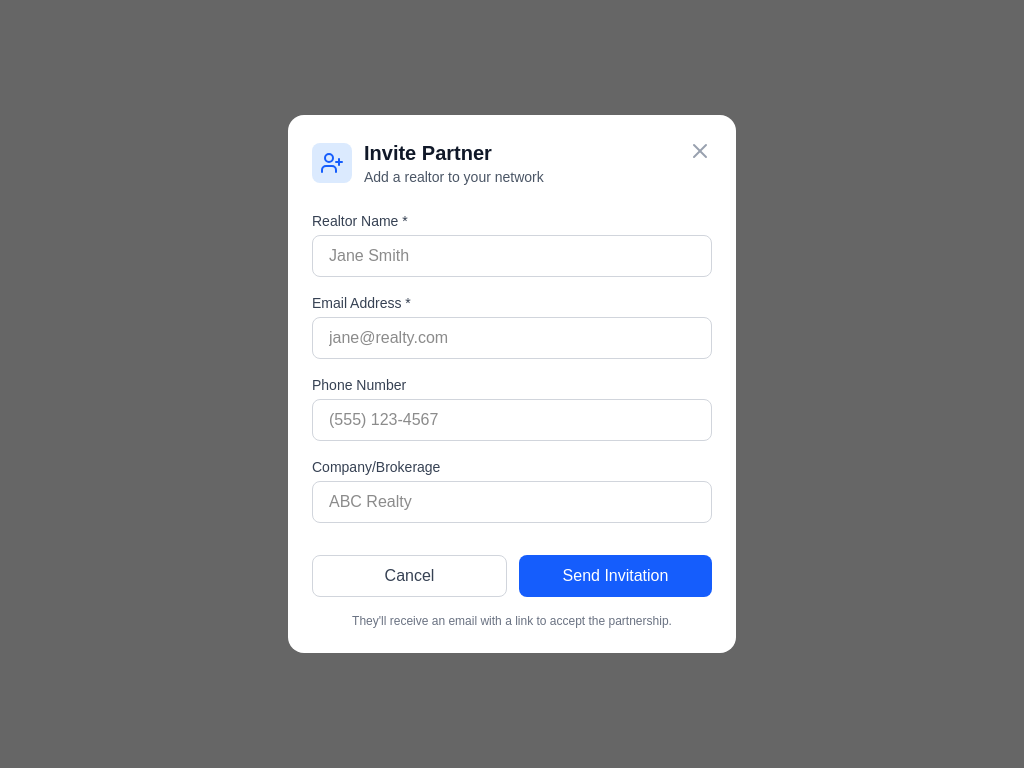
it: InvitePartnerModal › Accessibility › error message has role="alert" for accessibility
Type "John Realtor" into the field with placeholder "Jane Smith" at (512, 256), box [312, 235, 712, 277]
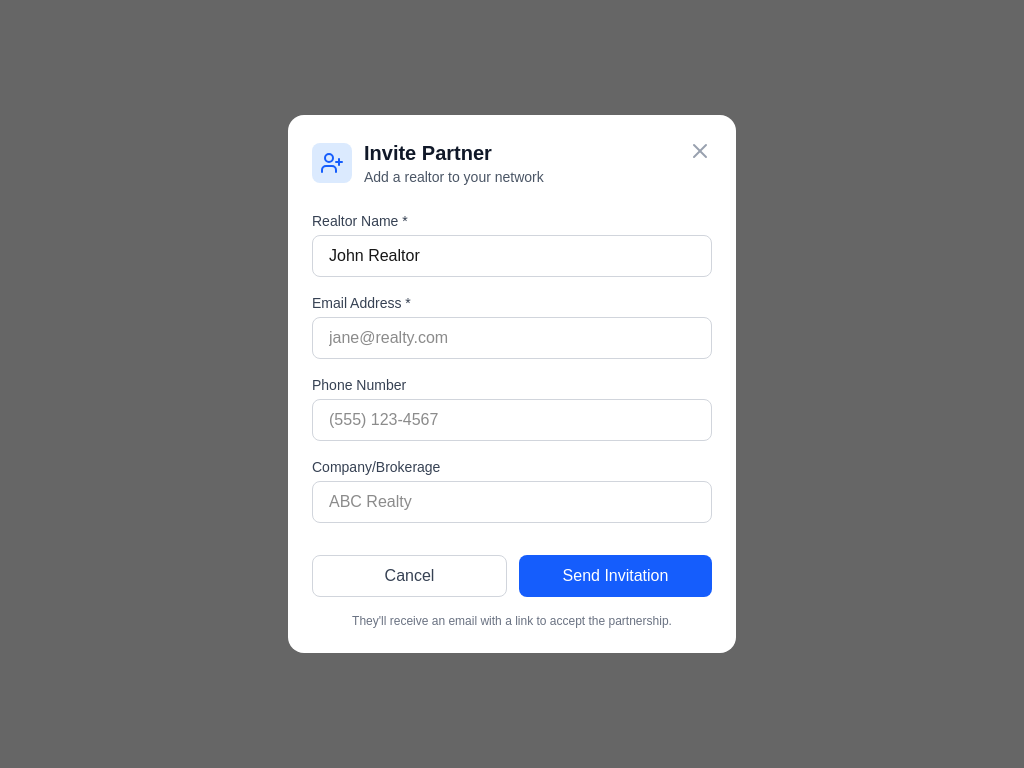
Type "john@realty.com" into the field with placeholder "jane@realty.com" at (512, 338), box [312, 317, 712, 359]
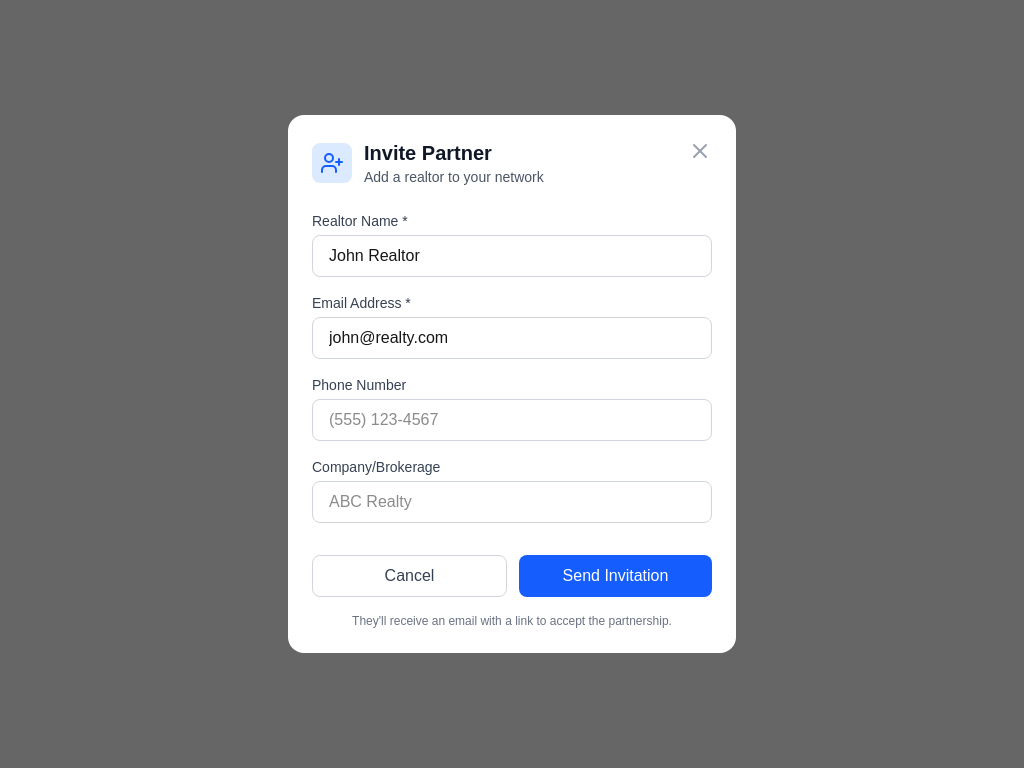
Click the button "Send Invitation" at (616, 576), box [519, 555, 712, 597]
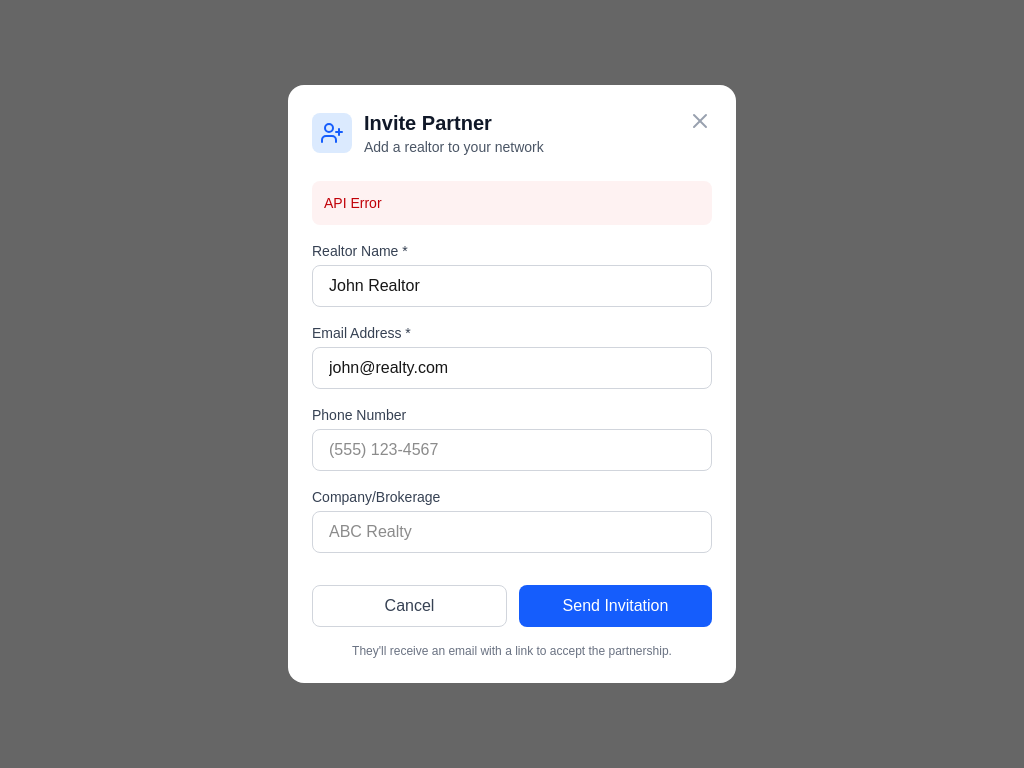
Expected: the message "API Error" is shown, [312, 181, 712, 225]
